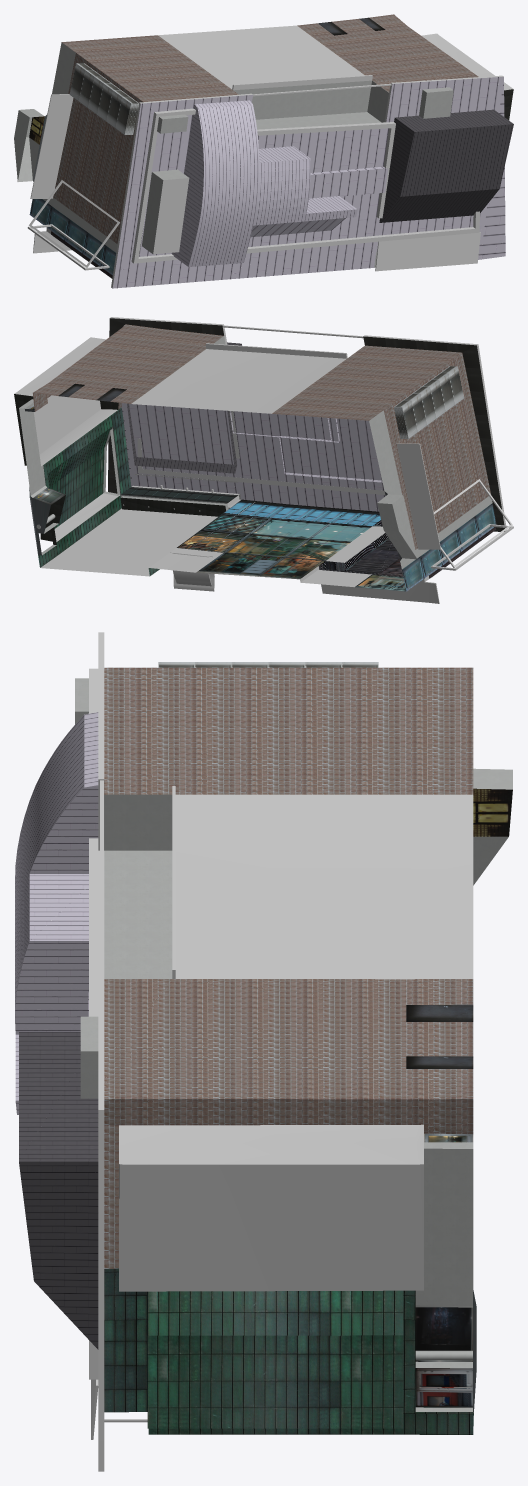
The model's file is Viru15_02.obj.
3 views of the same model, one above another, from view 1: azimuth 30°, elevation 25°; view 2: azimuth 150°, elevation 25°; view 3: azimuth 270°, elevation 25° (orthographic). The views are drawn at different scales.
Parts seen in each view (by area): view 1: Plane01; view 2: Plane01; view 3: Plane01.
Part boxes in pixels (x1,y1,x2,y2): Plane01: (14,14,513,288); Plane01: (14,317,513,603); Plane01: (15,632,512,1471).
Bounding box in the file's own units: 41.52 × 22.69 × 21.14.
